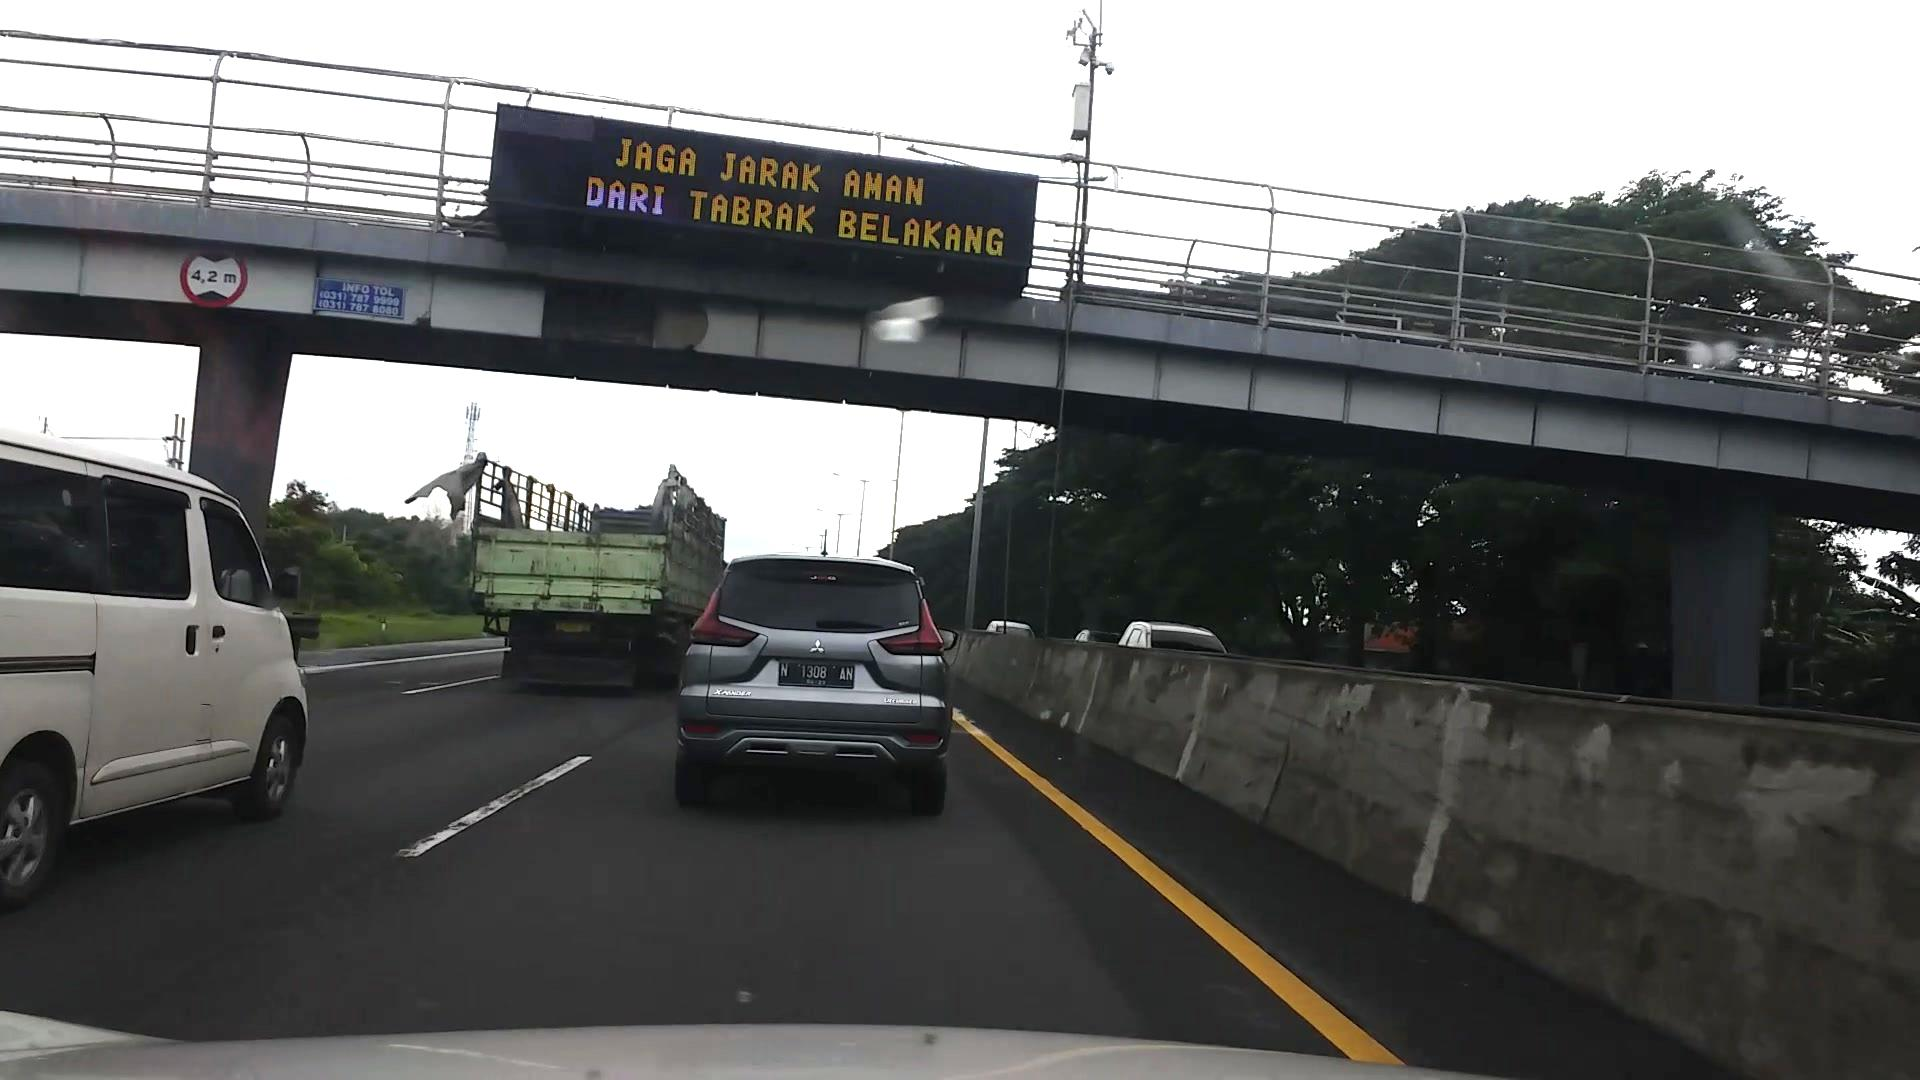plate_positive: (779, 659, 855, 688)
